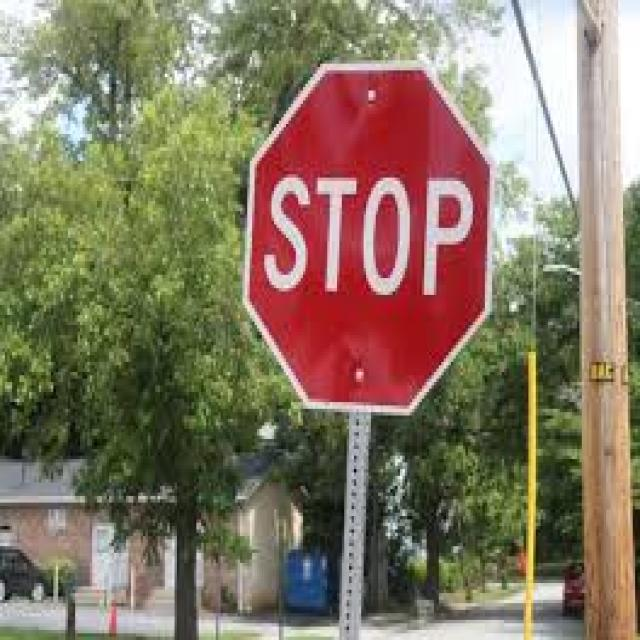stop-sign: (208, 33, 533, 459)
